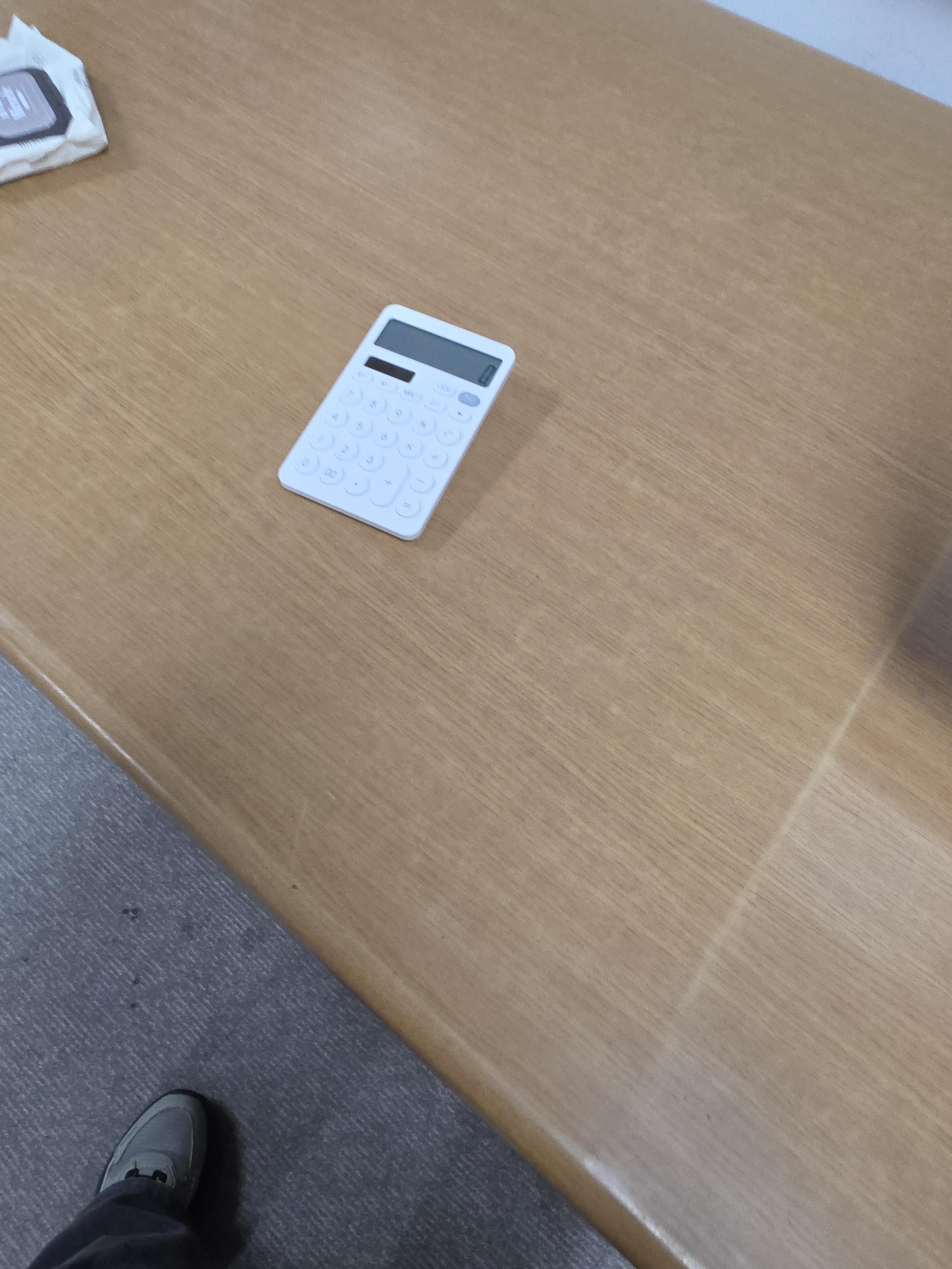calculator: (278, 303, 516, 542)
tissue: (0, 14, 109, 184)
